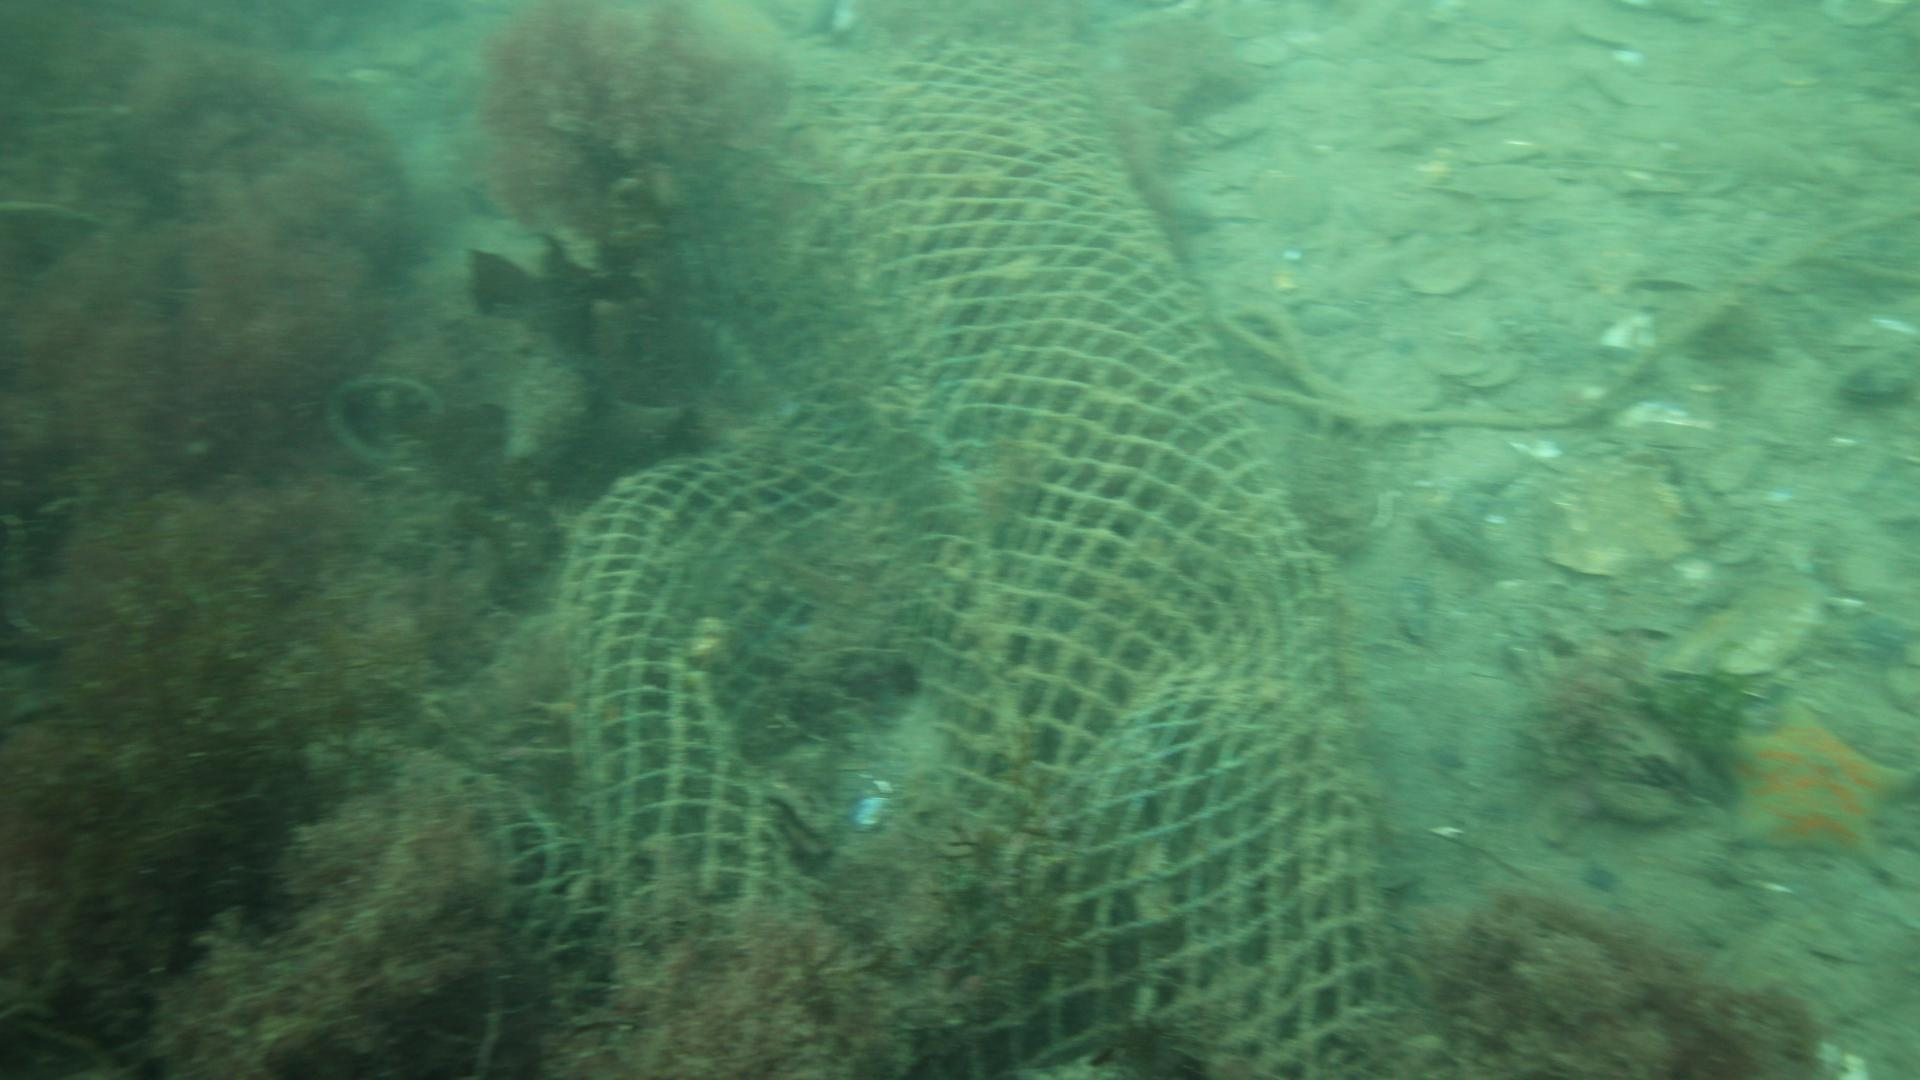fish net: (496, 34, 1396, 1080)
